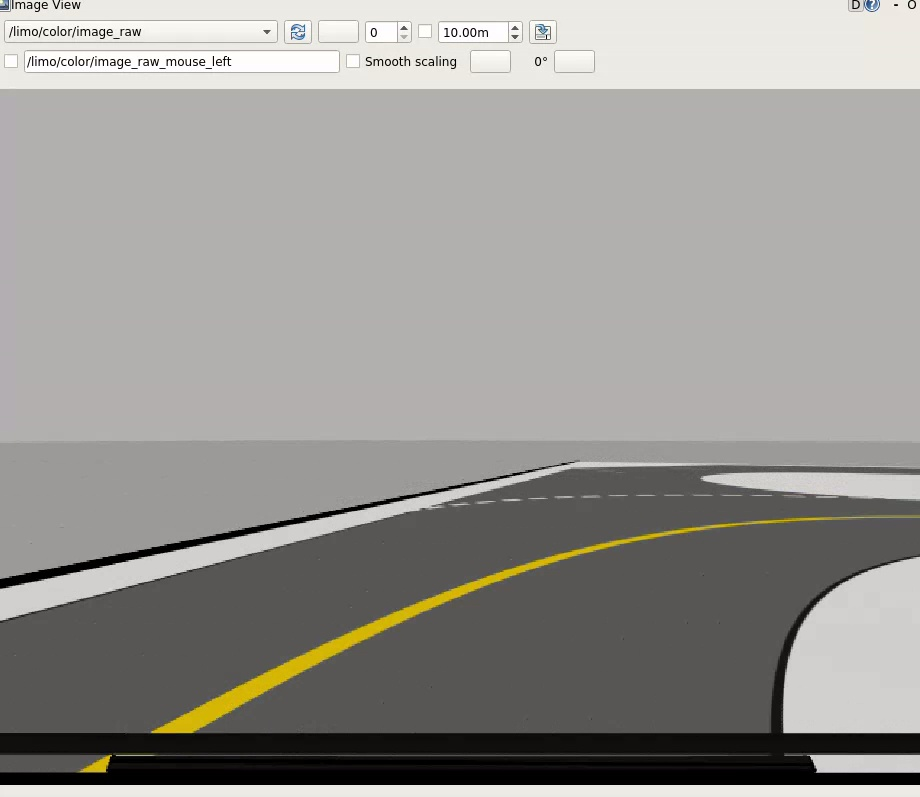Dashed: (815, 494, 838, 499), (428, 503, 445, 509), (781, 493, 804, 497), (502, 498, 522, 501), (528, 497, 547, 500), (476, 500, 493, 503), (555, 495, 572, 498), (452, 502, 468, 505), (748, 494, 770, 496), (721, 494, 742, 496), (582, 495, 600, 497), (637, 494, 654, 496), (664, 494, 681, 495), (611, 494, 627, 495), (693, 493, 708, 494), (793, 495, 801, 496)
Solid: (151, 514, 919, 732)
Street: (0, 468, 919, 732), (697, 465, 918, 479)
